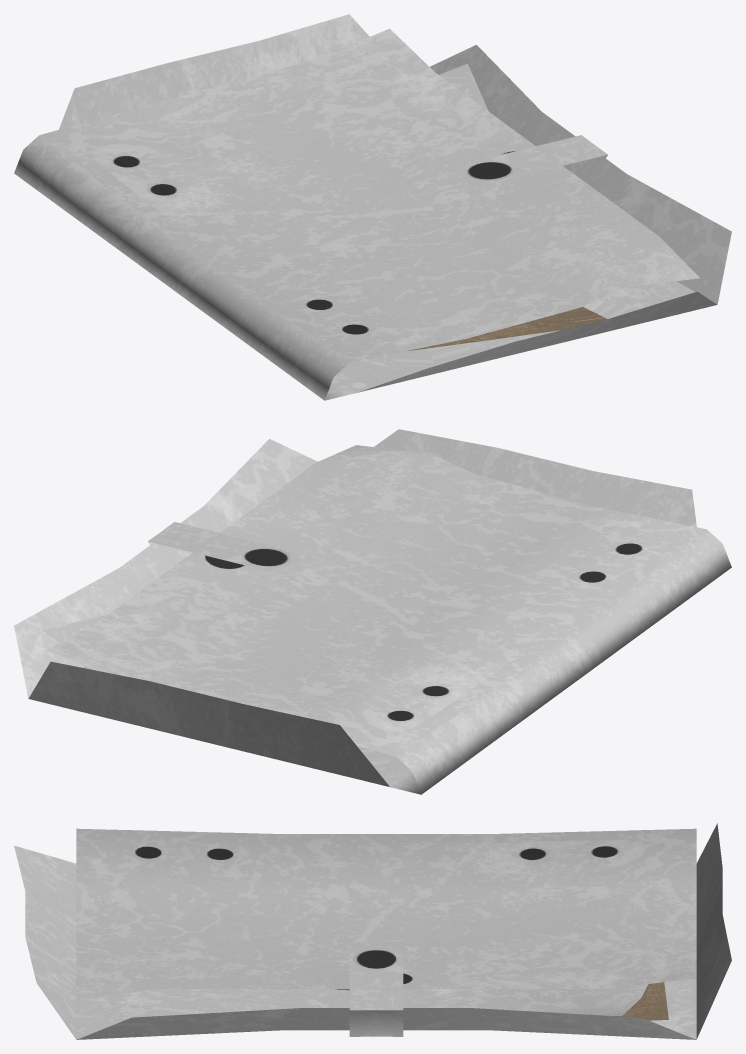
File: SM_File_Pocket4.fbx
3 renders of one model, top to bottom at view 1: azimuth 30°, elevation 25°; view 2: azimuth 150°, elevation 25°; view 3: azimuth 270°, elevation 25°, orthographic.
Visible parts, largest first — view 1: SM_File_Pocket4_LOD0; view 2: SM_File_Pocket4_LOD0; view 3: SM_File_Pocket4_LOD0.
Part boxes in pixels (x1,y1,x2,y2): SM_File_Pocket4_LOD0: [14, 14, 731, 400]; SM_File_Pocket4_LOD0: [14, 429, 731, 794]; SM_File_Pocket4_LOD0: [14, 823, 731, 1039].
Bounding box in the file's own units: 38.09 × 54.53 × 5.32.
Materials: 1 (1 with a texture image).
